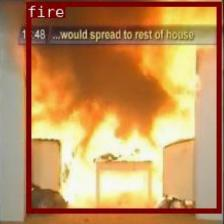fire: (26, 0, 220, 212)
